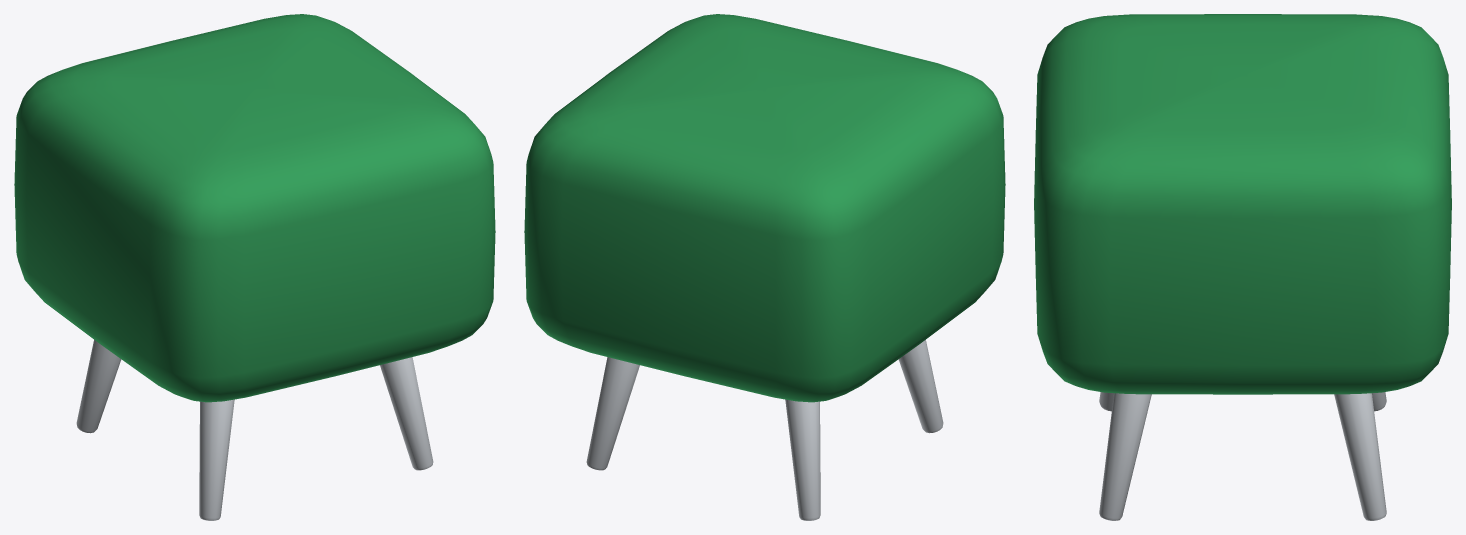
File: pufe_quadrado_pes_verde.glb
The picture shows the model from 3 angles, left to right: view 1: azimuth 30°, elevation 25°; view 2: azimuth 150°, elevation 25°; view 3: azimuth 270°, elevation 25°; orthographic projection. The views are drawn at different scales.
Parts seen in each view (by area): view 1: pufe_quadrado_pes_verde; view 2: pufe_quadrado_pes_verde; view 3: pufe_quadrado_pes_verde.
Boxes of the visible parts, x1,y1,x2,y2 form: pufe_quadrado_pes_verde: (14,14,495,520); pufe_quadrado_pes_verde: (524,14,1005,520); pufe_quadrado_pes_verde: (1034,14,1451,520).
Size of the model in its own units: 0.44 by 0.4518 by 0.44.
1 material, 1 textured.
